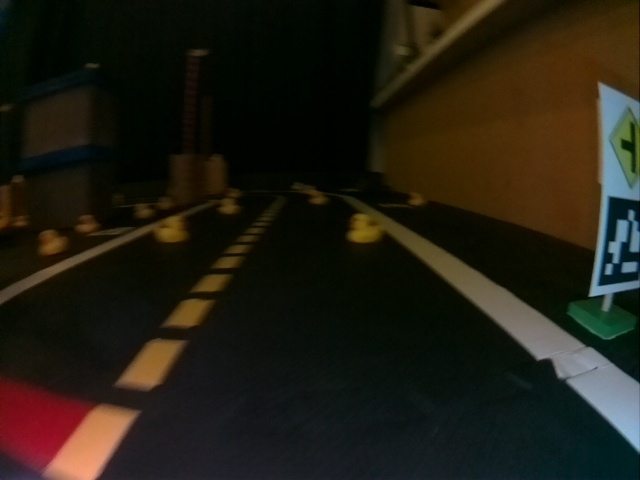Duckie: (154, 214, 189, 244), (350, 214, 382, 242), (39, 231, 65, 254), (220, 198, 237, 216), (134, 203, 152, 218), (410, 193, 422, 206), (313, 194, 325, 204)
Intersection sign: (603, 97, 637, 184)
QR code: (596, 196, 638, 288)
